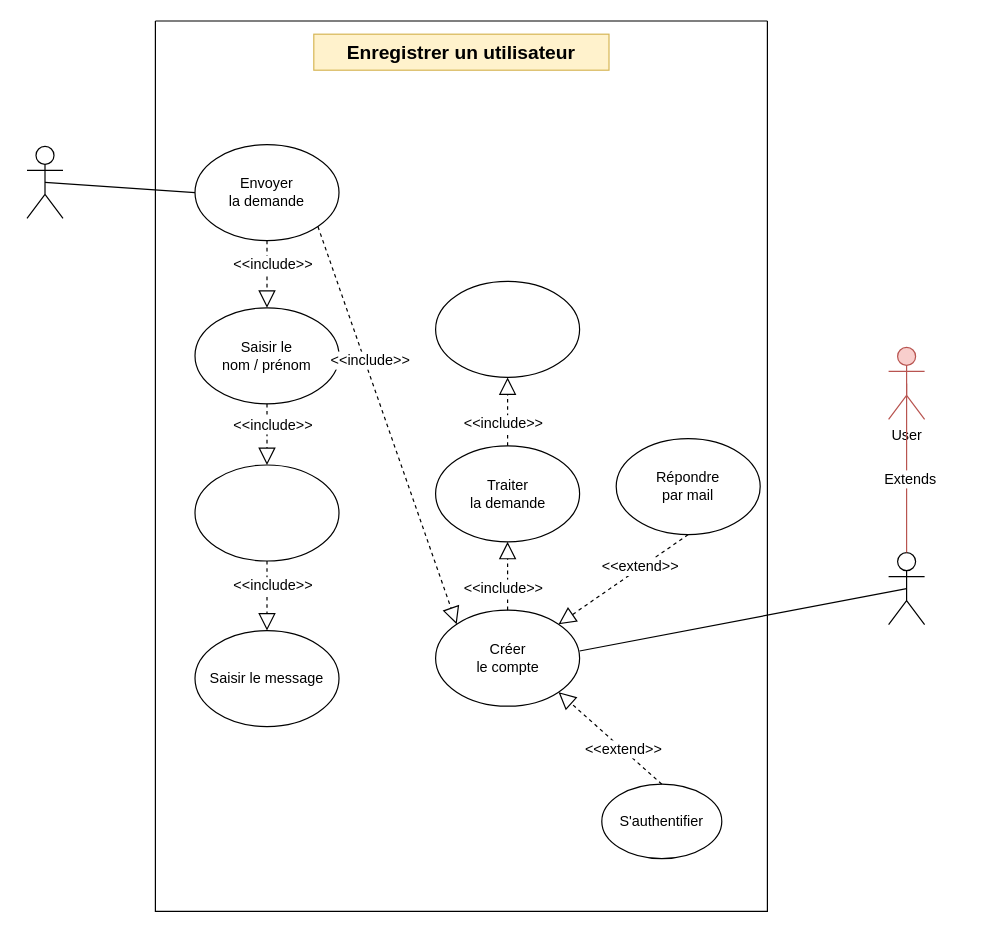
The diagram is 996 pixels wide and 932 high, and some of its shapes have lost their labels. The box of each missing label's shape, as (x1, y1, x2, y2) in pixels:
Saisir le mail de contact: (194, 464, 339, 561)
Super- Administrateur: (887, 551, 925, 625)
Valider la demande: (434, 280, 580, 377)
Visiteur: (26, 145, 63, 218)
